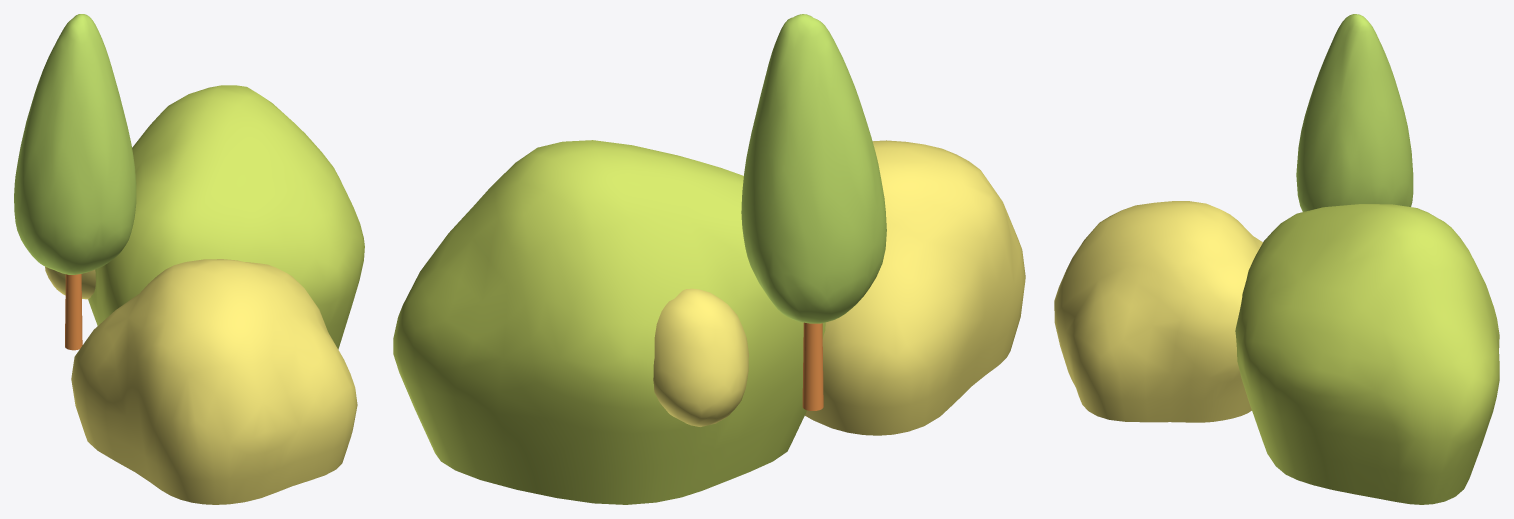
Rendered from BushPack_C.fbx.
3 views of the same model, side by side, from view 1: azimuth 30°, elevation 25°; view 2: azimuth 150°, elevation 25°; view 3: azimuth 270°, elevation 25° (orthographic). The views are drawn at different scales.
Visible parts, largest first — view 1: BushPack_D; view 2: BushPack_D; view 3: BushPack_D.
Boxes of the visible parts, bbox=[...] form: BushPack_D: bbox=[14, 14, 364, 504]; BushPack_D: bbox=[393, 14, 1025, 504]; BushPack_D: bbox=[1054, 14, 1499, 504].
Size of the model in its own units: 393 by 428 by 468.
